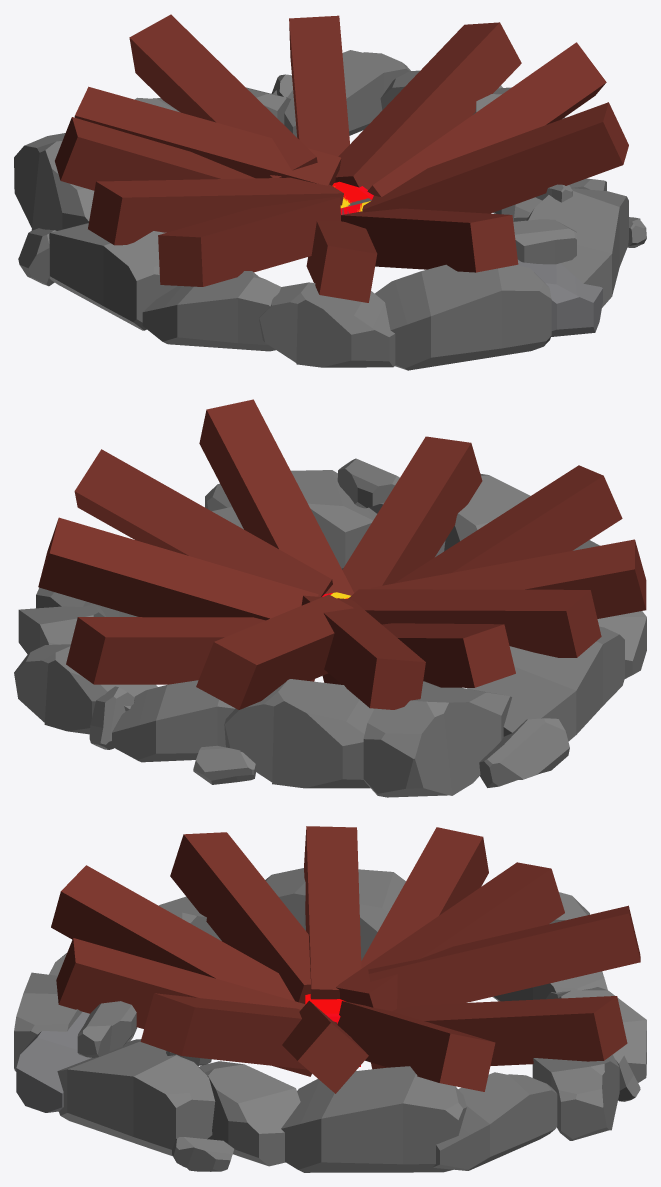
The model's file is fire.glb.
3 views of the same model, one above another, from view 1: azimuth 30°, elevation 25°; view 2: azimuth 150°, elevation 25°; view 3: azimuth 270°, elevation 25° (orthographic). The views are drawn at different scales.
Visible parts, largest first — view 1: Rock.012, Cube.004, Cube.006, Cube.001, Cube, Cube.008, Cube.005, Rock.011, Cube.009, Cube.003, Rock.009, Rock.010 (+12 smaller); view 2: Cube.006, Rock.008, Cube.005, Rock.007, Cube.004, Cube.003, Cube, Cube.002, Cube.007, Cube.008, Cube.001, Rock.009 (+13 smaller); view 3: Rock.003, Cube.008, Rock.001, Cube.002, Cube.001, Cube.007, Cube.009, Cube.004, Cube.003, Cube, Cube.006, Rock.004 (+14 smaller).
Boxes of the visible parts, x1,y1,x2,y2 form: Rock.012: [375, 264, 551, 370]; Cube.004: [362, 102, 628, 213]; Cube.006: [335, 22, 521, 189]; Cube.001: [158, 197, 340, 286]; Cube: [88, 177, 343, 245]; Cube.008: [129, 14, 317, 177]; Cube.005: [367, 42, 606, 197]; Rock.011: [259, 282, 395, 367]; Cube.009: [74, 86, 341, 185]; Cube.003: [341, 208, 518, 272]; Rock.009: [49, 223, 177, 330]; Rock.010: [142, 271, 281, 351]; Cube.006: [38, 517, 318, 620]; Rock.008: [363, 681, 511, 797]; Cube.005: [74, 449, 332, 596]; Rock.007: [224, 679, 373, 788]; Cube.004: [199, 399, 353, 595]; Cube.003: [342, 436, 482, 592]; Cube: [348, 589, 601, 657]; Cube.002: [394, 465, 622, 583]; Cube.007: [66, 617, 314, 684]; Cube.008: [196, 594, 353, 709]; Cube.001: [370, 539, 646, 618]; Rock.009: [467, 626, 624, 741]; Rock.003: [281, 1066, 466, 1172]; Cube.008: [368, 905, 640, 1008]; Rock.001: [57, 1039, 215, 1156]; Cube.002: [51, 865, 294, 1000]; Cube.001: [170, 832, 310, 1003]; Cube.007: [371, 996, 627, 1069]; Cube.009: [336, 862, 564, 1011]; Cube.004: [140, 993, 337, 1069]; Cube.003: [56, 938, 311, 1076]; Cube: [304, 826, 361, 999]; Cube.006: [337, 1001, 495, 1091]; Rock.004: [433, 1072, 557, 1170].
Bounding box in the file's own units: 0.9723 × 0.2949 × 1.01.
